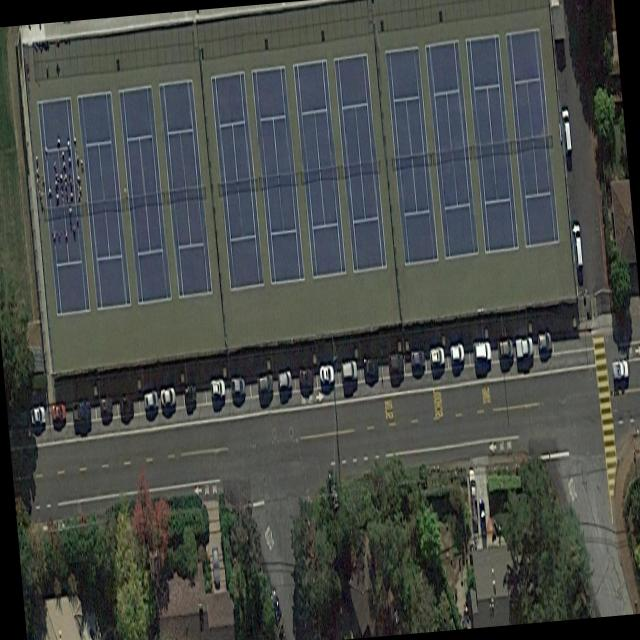small-vehicle: (466, 465, 478, 519), (561, 106, 572, 152), (572, 221, 583, 267), (71, 399, 92, 421), (515, 335, 534, 358), (472, 339, 491, 362), (340, 357, 358, 381), (210, 543, 220, 584), (160, 384, 176, 408), (611, 357, 629, 378), (257, 371, 273, 393), (537, 330, 553, 352), (449, 342, 465, 364), (429, 344, 445, 366), (119, 392, 134, 415), (318, 362, 335, 382), (497, 337, 514, 357), (230, 374, 246, 395), (478, 498, 487, 535), (210, 376, 225, 398), (277, 368, 292, 390), (388, 352, 404, 372), (362, 357, 378, 377), (143, 387, 158, 408), (298, 367, 314, 386), (51, 401, 66, 421), (30, 404, 45, 423), (99, 392, 112, 413), (410, 348, 425, 366), (184, 383, 197, 402)
